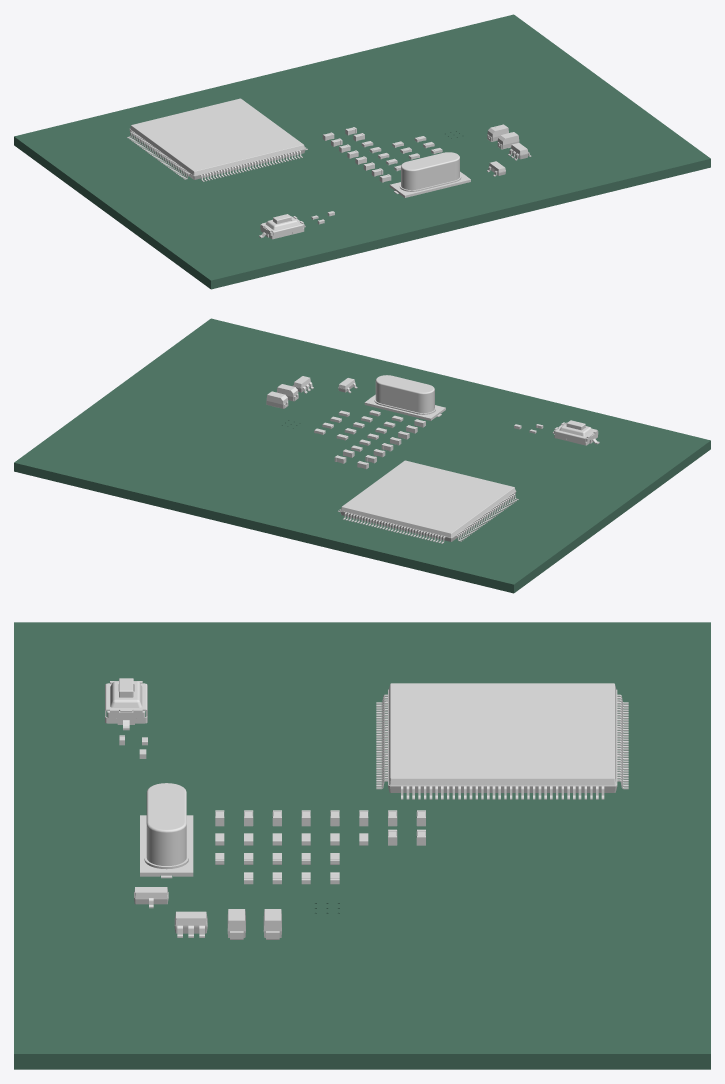
File: board.glb
The picture shows the model from 3 angles, top to bottom: view 1: azimuth 30°, elevation 25°; view 2: azimuth 150°, elevation 25°; view 3: azimuth 270°, elevation 25°; orthographic projection. The views are drawn at different scales.
Parts seen in each view (by area): view 1: =>[0:1:1:14], U3, Y3, SW1; view 2: =>[0:1:1:14], U3, Y3, SW1; view 3: =>[0:1:1:14], U3, Y3, SW1, U2.
Boxes of the visible parts, x1=… form: =>[0:1:1:14]: x1=14, y1=14, x2=710, y2=289; U3: x1=127, y1=98, x2=307, y2=181; Y3: x1=389, y1=152, x2=470, y2=197; SW1: x1=259, y1=214, x2=305, y2=239; =>[0:1:1:14]: x1=14, y1=318, x2=710, y2=593; U3: x1=337, y1=460, x2=518, y2=543; Y3: x1=364, y1=375, x2=445, y2=420; SW1: x1=552, y1=420, x2=599, y2=445; =>[0:1:1:14]: x1=14, y1=622, x2=710, y2=1069; U3: x1=376, y1=683, x2=628, y2=799; Y3: x1=140, y1=783, x2=193, y2=878; SW1: x1=105, y1=678, x2=147, y2=730; U2: x1=174, y1=911, x2=207, y2=937.
Size of the model in its own units: 0.089 by 0.0056 by 0.0608.
